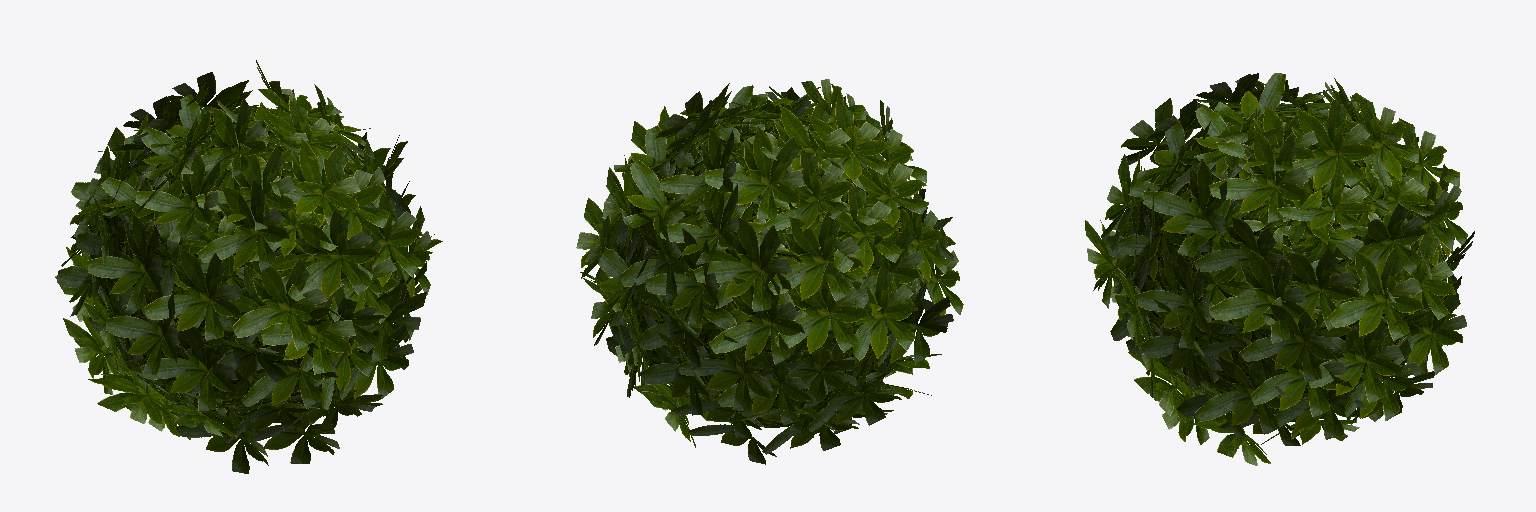
The picture shows the model from 3 angles: view 1: azimuth 30°, elevation 25°; view 2: azimuth 150°, elevation 25°; view 3: azimuth 270°, elevation 25°; orthographic projection.
Parts seen in each view (by area): view 1: mazePlantSphereBig_leafs, mazePlantSphereBig_base; view 2: mazePlantSphereBig_leafs, mazePlantSphereBig_base; view 3: mazePlantSphereBig_leafs, mazePlantSphereBig_base.
Part boxes in pixels (left/top/right/bottom): mazePlantSphereBig_leafs: left=55, top=60, right=442, bottom=473; mazePlantSphereBig_base: left=90, top=106, right=404, bottom=424; mazePlantSphereBig_leafs: left=576, top=79, right=963, bottom=464; mazePlantSphereBig_base: left=616, top=110, right=926, bottom=427; mazePlantSphereBig_leafs: left=1085, top=73, right=1474, bottom=465; mazePlantSphereBig_base: left=1125, top=103, right=1442, bottom=422.
Size of the model in its own units: 1.31 by 1.28 by 1.23.
2 materials, 2 textured.